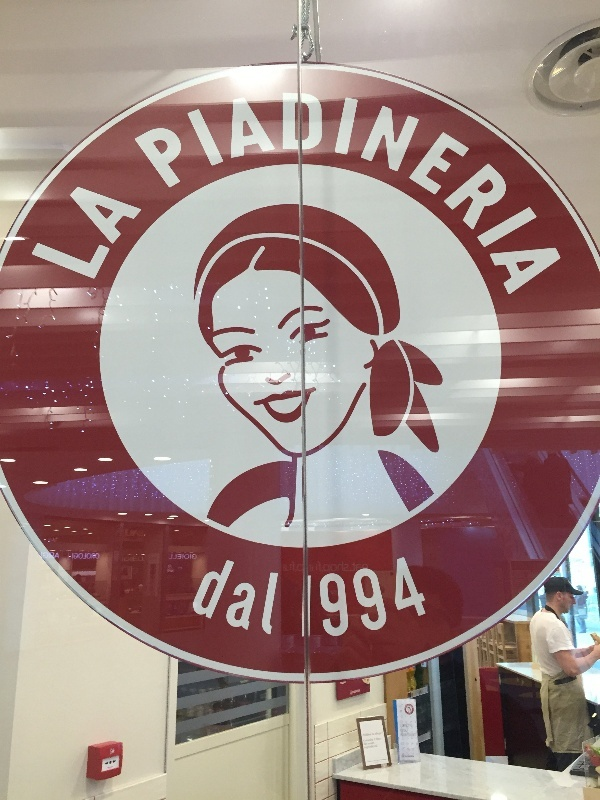text: (145, 64, 160, 316), (161, 64, 176, 316), (177, 64, 192, 316), (193, 64, 208, 316), (209, 64, 224, 316), (225, 64, 240, 316), (241, 64, 256, 316), (257, 64, 272, 316), (273, 64, 288, 316), (289, 64, 304, 316), (305, 64, 320, 316), (321, 64, 336, 316), (337, 64, 352, 316), (353, 64, 368, 316), (369, 64, 384, 316), (385, 64, 400, 316), (401, 64, 416, 316), (417, 64, 432, 316), (433, 64, 448, 316), (449, 64, 464, 316), (465, 64, 480, 316), (481, 64, 496, 316), (497, 64, 512, 316), (513, 64, 528, 316), (529, 64, 544, 316), (545, 64, 560, 316), (131, 64, 144, 316), (81, 174, 96, 297), (97, 174, 112, 297), (113, 174, 128, 297), (129, 174, 144, 297), (561, 64, 567, 316), (305, 550, 320, 646), (321, 550, 336, 646), (337, 550, 352, 646), (353, 550, 368, 646), (369, 550, 384, 646), (385, 550, 400, 646), (401, 550, 416, 646), (225, 554, 240, 645), (241, 554, 256, 645), (257, 554, 272, 645), (210, 554, 224, 645), (417, 550, 430, 646), (72, 174, 80, 297), (273, 554, 282, 645), (145, 174, 148, 297), (301, 550, 304, 646), (289, 561, 304, 577), (305, 561, 320, 577), (321, 561, 336, 577), (337, 561, 352, 577), (353, 561, 368, 577), (177, 550, 192, 564), (169, 550, 176, 564), (282, 561, 288, 577), (193, 550, 198, 564), (369, 561, 370, 577)
